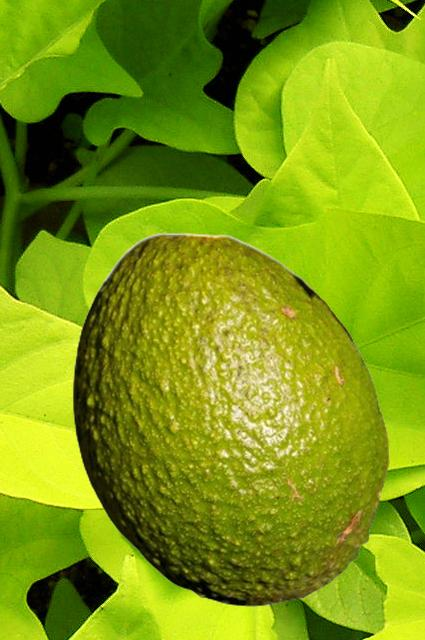avocado: (72, 232, 388, 605)
